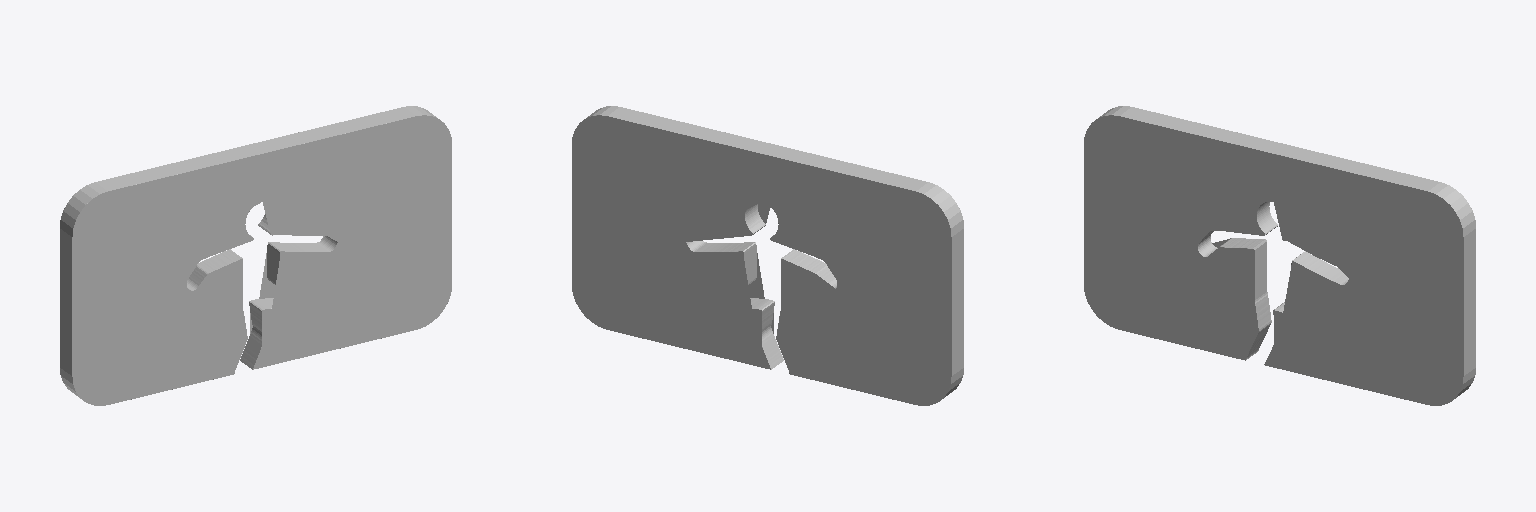
3 renders of one model, left to right at view 1: azimuth 30°, elevation 25°; view 2: azimuth 150°, elevation 25°; view 3: azimuth 330°, elevation 25°, orthographic.
Visible parts, largest first — view 1: POSE25; view 2: POSE25; view 3: POSE25.
Boxes of the visible parts, <box> form: POSE25: <box>60,106,451,405</box>; POSE25: <box>572,106,963,405</box>; POSE25: <box>1084,106,1475,405</box>.
Bounding box in the file's own units: 12 × 6.45 × 0.7.